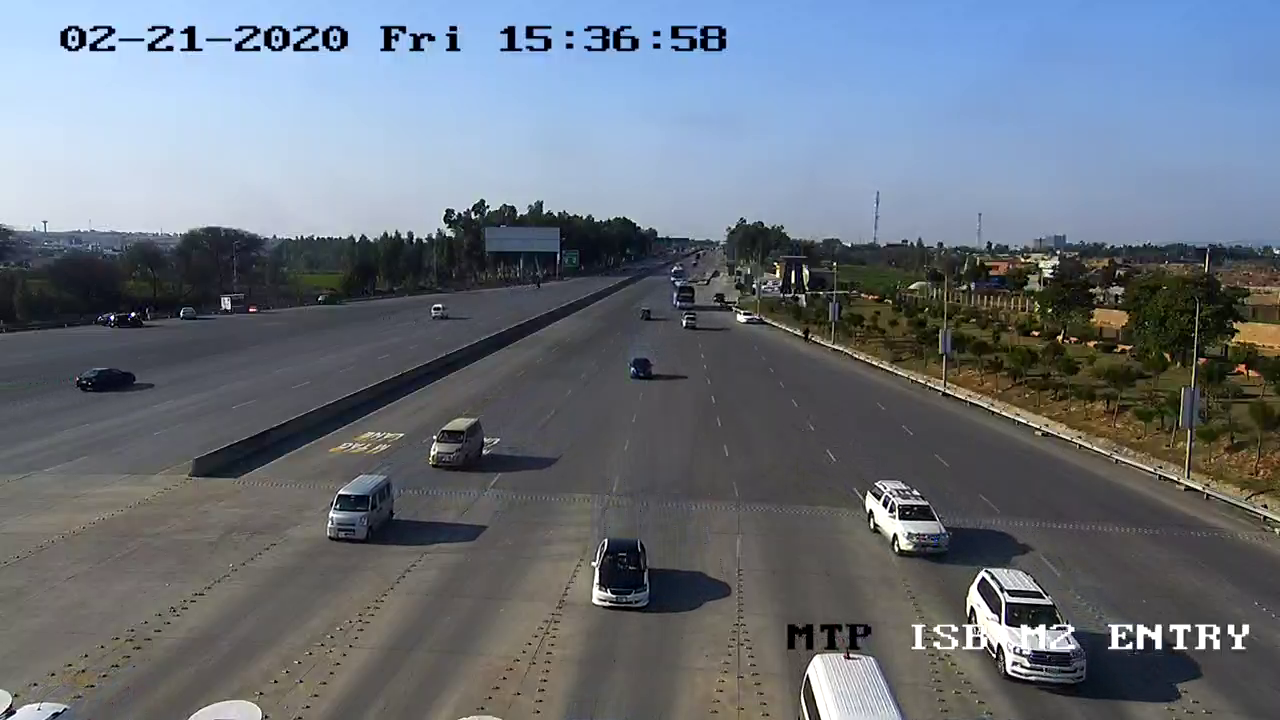f1: (845, 463, 954, 566), (575, 529, 665, 615), (315, 466, 402, 552), (423, 409, 497, 478)
